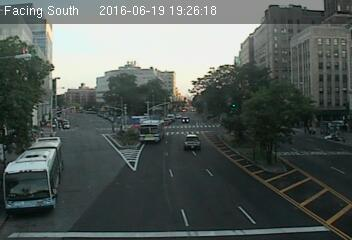neg: (150, 40, 179, 79), (124, 61, 151, 97), (25, 161, 52, 197), (247, 181, 274, 217), (196, 51, 222, 85), (168, 100, 190, 129), (106, 142, 127, 171), (83, 175, 104, 203), (241, 129, 261, 156), (183, 144, 203, 171), (65, 99, 85, 126), (141, 188, 161, 215), (171, 187, 191, 214), (292, 181, 312, 208), (34, 123, 52, 146), (302, 56, 318, 78), (261, 31, 276, 51), (48, 41, 63, 61), (309, 121, 323, 141), (282, 100, 295, 117), (39, 84, 52, 101)
